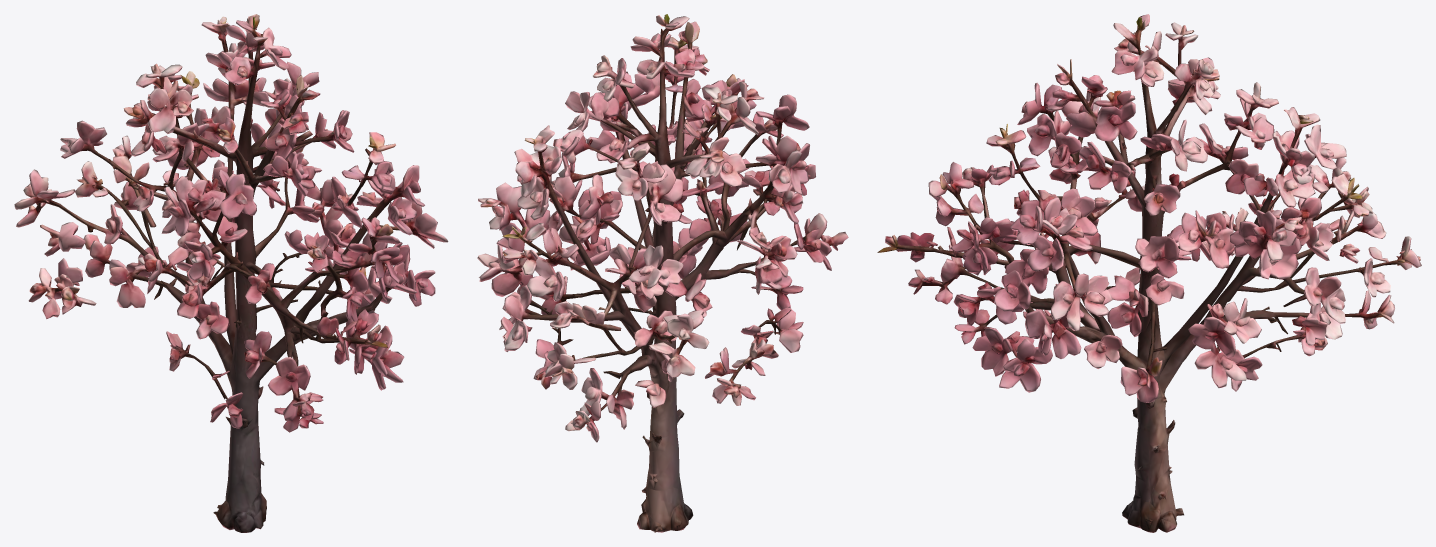
File: peach2-high.glb
The picture shows the model from 3 angles, left to right: view 1: azimuth 30°, elevation 25°; view 2: azimuth 150°, elevation 25°; view 3: azimuth 270°, elevation 25°; orthographic projection.
Size of the model in its own units: 0.6206 by 0.9989 by 0.9693.
Materials: 1 (1 with a texture image).
